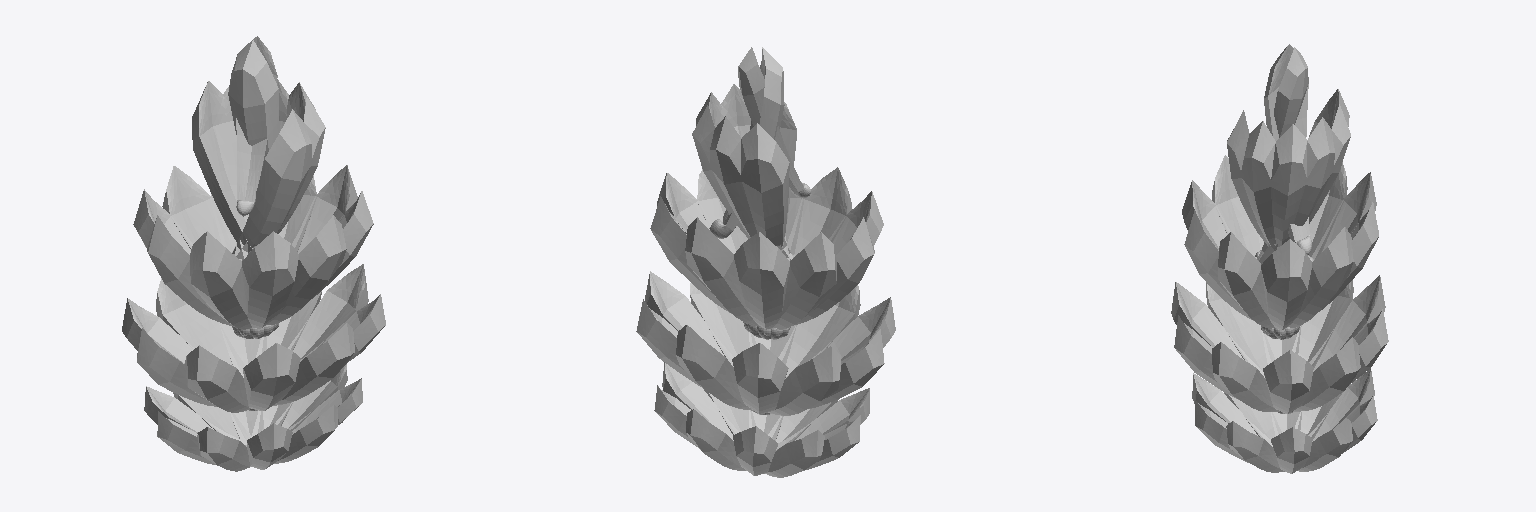
The model's file is pinecone.obj.
3 views of the same model, side by side, from view 1: azimuth 30°, elevation 25°; view 2: azimuth 150°, elevation 25°; view 3: azimuth 270°, elevation 25° (orthographic).
Parts seen in each view (by area): view 1: Plane.522_Plane.001, Plane.529_Plane.001, Plane.493_Plane.001, Plane.494_Plane.001, Plane.495_Plane.001, Plane.527_Plane.001, Plane.512_Plane.001, Plane.498_Plane.001, Plane.505_Plane.001, Plane.508_Plane.001, Plane.504_Plane.001, Plane.496_Plane.001 (+22 smaller); view 2: Plane.493_Plane.001, Plane.498_Plane.001, Plane.497_Plane.001, Plane.521_Plane.001, Plane.494_Plane.001, Plane.523_Plane.001, Plane.507_Plane.001, Plane.508_Plane.001, Plane.504_Plane.001, Plane.526_Plane.001, Plane.496_Plane.001, Plane.512_Plane.001 (+24 smaller); view 3: Plane.514_Plane.001, Plane.525_Plane.001, Plane.528_Plane.001, Plane.510_Plane.001, Plane.515_Plane.001, Plane.511_Plane.001, Plane.509_Plane.001, Plane.512_Plane.001, Plane.513_Plane.001, Plane.508_Plane.001, Plane.495_Plane.001, Plane.505_Plane.001 (+24 smaller).
Boxes of the visible parts, box(x1,y1,x2,y2) form: Plane.522_Plane.001: box(232, 109, 311, 253); Plane.529_Plane.001: box(228, 40, 279, 163); Plane.493_Plane.001: box(192, 81, 252, 252); Plane.494_Plane.001: box(242, 231, 298, 328); Plane.495_Plane.001: box(190, 231, 251, 329); Plane.527_Plane.001: box(267, 215, 346, 324); Plane.512_Plane.001: box(288, 264, 368, 358); Plane.498_Plane.001: box(162, 166, 274, 336); Plane.505_Plane.001: box(185, 345, 250, 412); Plane.508_Plane.001: box(156, 278, 245, 375); Plane.504_Plane.001: box(243, 343, 300, 410); Plane.496_Plane.001: box(147, 215, 234, 326); Plane.493_Plane.001: box(741, 123, 789, 246); Plane.498_Plane.001: box(734, 232, 789, 329); Plane.497_Plane.001: box(773, 232, 836, 329); Plane.521_Plane.001: box(685, 217, 758, 325); Plane.494_Plane.001: box(747, 167, 851, 337); Plane.523_Plane.001: box(676, 325, 753, 410); Plane.507_Plane.001: box(768, 346, 840, 415); Plane.508_Plane.001: box(732, 343, 788, 414); Plane.504_Plane.001: box(753, 285, 860, 413); Plane.526_Plane.001: box(710, 116, 794, 257); Plane.496_Plane.001: box(795, 217, 874, 324); Plane.512_Plane.001: box(645, 271, 733, 360); Plane.514_Plane.001: box(1261, 239, 1311, 330); Plane.525_Plane.001: box(1268, 124, 1307, 246); Plane.528_Plane.001: box(1218, 232, 1274, 328); Plane.510_Plane.001: box(1240, 121, 1275, 248); Plane.515_Plane.001: box(1288, 227, 1353, 327); Plane.511_Plane.001: box(1212, 342, 1279, 411); Plane.509_Plane.001: box(1255, 117, 1334, 257); Plane.512_Plane.001: box(1263, 350, 1313, 413); Plane.513_Plane.001: box(1293, 337, 1360, 411); Plane.508_Plane.001: box(1309, 275, 1385, 371); Plane.495_Plane.001: box(1212, 155, 1294, 338); Plane.505_Plane.001: box(1206, 283, 1292, 413).
Bounding box in the file's own units: 0.1976 × 0.3414 × 0.1581.